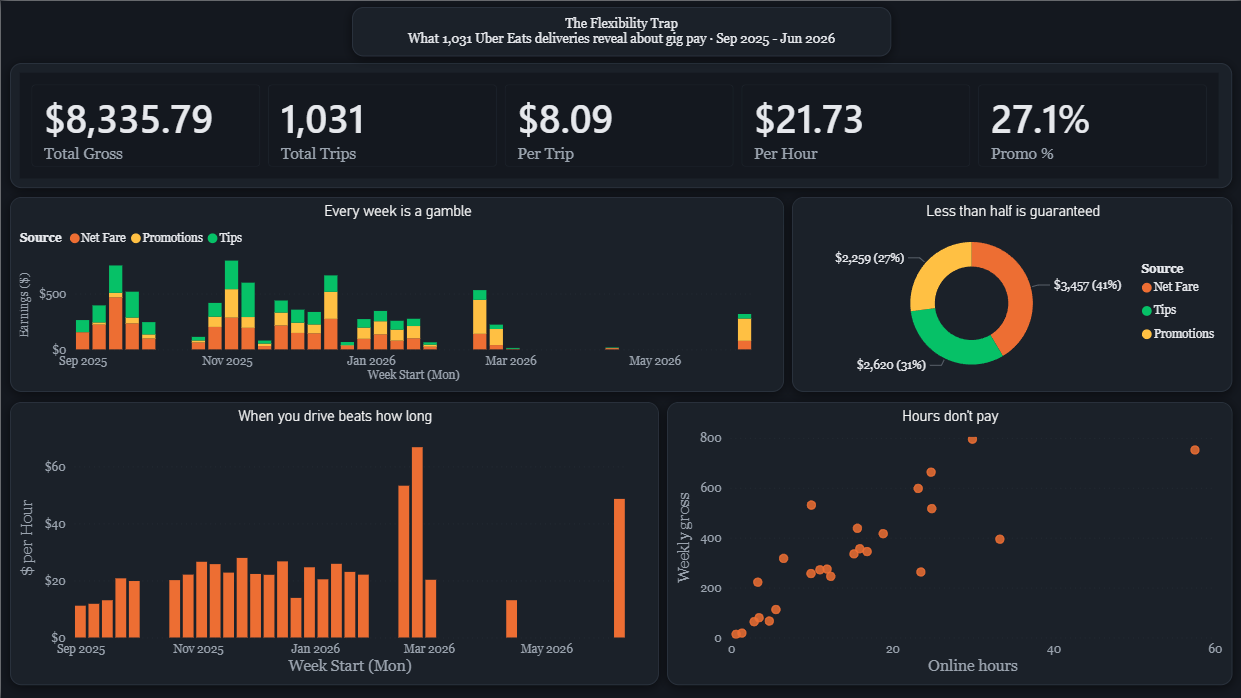

Layout of this report page (visuals, bound fields, positions):
{"tool":"powerbi","page":{"name":"Page 1","canvas":[1280,720],"ordinal":0},"visuals":[{"type":"cardVisual","fields":{"Data":["Weekly Earnings.Total Gross","Weekly Earnings.Total Trips","Weekly Earnings.$ per Trip","Weekly Earnings.$ per Hour","Weekly Earnings.Promo %"]},"box":[9,63.7,1260.4,129.3],"z":0},{"type":"columnChart","title":"Every week is a gamble","fields":{"Series":["Earnings by Source.Source"],"Category":["Earnings by Source.Week Start (Mon)"],"Y":["Sum(Earnings by Source.Amount)"]},"box":[9,202,798.1,201.1],"z":1000},{"type":"clusteredColumnChart","title":"When you drive beats how long","fields":{"Category":["Weekly Earnings.Week Start (Mon)"],"Y":["Weekly Earnings.$ per Hour"]},"box":[9,413.9,668.8,291.8],"z":2000},{"type":"donutChart","title":"Less than half is guaranteed","fields":{"Category":["Earnings by Source.Source"],"Y":["Sum(Earnings by Source.Amount)"]},"box":[815.2,202,454.3,201.1],"z":3000},{"type":"scatterChart","title":"Hours don''t pay","fields":{"Y":["Sum(Weekly Earnings.Total Earnings)"],"X":["Sum(Weekly Earnings.Online Hours)"],"Category":["Weekly Earnings.Week Start (Mon)"]},"box":[686.8,413.9,582.6,291.8],"z":4000},{"type":"textbox","box":[361.8,6.3,555.7,51.2],"z":5000}]}

Visuals, with their boxes in screenshot pixels (x1, y1, x2, y2), scaled from the page's 1280x720 canvas onto the 1241x698 screenshot:
cardVisual - Weekly Earnings.Total Gross x Weekly Earnings.Total Trips: region(9, 62, 1231, 187)
"Every week is a gamble" columnChart: region(9, 196, 783, 391)
"When you drive beats how long" clusteredColumnChart: region(9, 401, 657, 684)
"Less than half is guaranteed" donutChart: region(790, 196, 1231, 391)
"Hours don''t pay" scatterChart: region(666, 401, 1231, 684)
textbox: region(351, 6, 890, 56)
